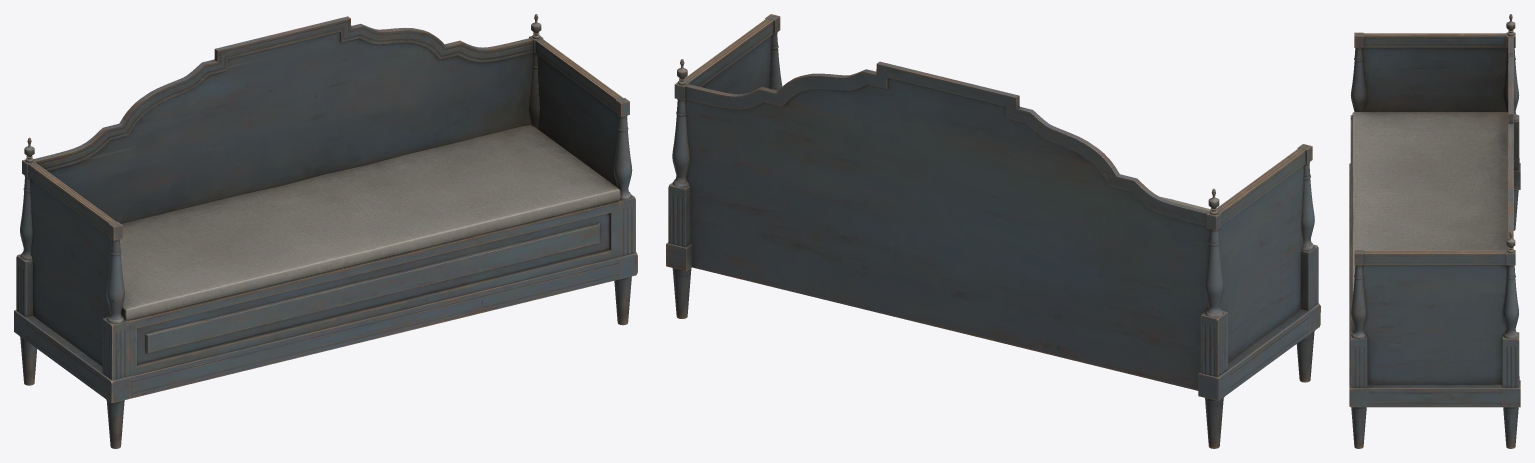
Rendered from 331afbd0-0322-423e-8967-d41257b93b62.glb.
3 views of the same model, side by side, from view 1: azimuth 30°, elevation 25°; view 2: azimuth 150°, elevation 25°; view 3: azimuth 270°, elevation 25° (orthographic). The views are drawn at different scales.
Parts seen in each view (by area): view 1: painted_wooden_sofa; view 2: painted_wooden_sofa; view 3: painted_wooden_sofa.
Part boxes in pixels (x1,y1,x2,y2): painted_wooden_sofa: (14,14,637,448); painted_wooden_sofa: (666,14,1320,448); painted_wooden_sofa: (1349,14,1520,448).
Bounding box in the file's own units: 2.45 × 1.28 × 0.7873.
Materials: 1 (1 with a texture image).
